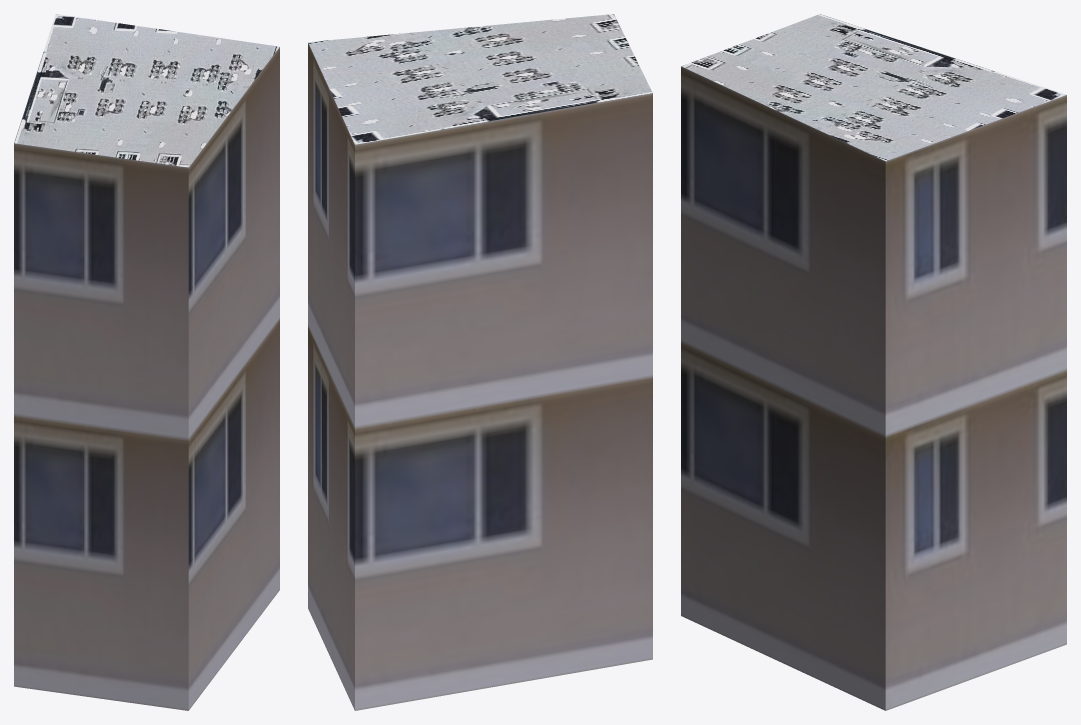
Rendered from ResTex__2899.fbx.
The picture shows the model from 3 angles, left to right: view 1: azimuth 30°, elevation 25°; view 2: azimuth 150°, elevation 25°; view 3: azimuth 270°, elevation 25°; orthographic projection. The views are drawn at different scales.
Visible parts, largest first — view 1: CityEngineMaterial_21_m, CityEngineMaterial_8_m; view 2: CityEngineMaterial_21_m, CityEngineMaterial_8_m; view 3: CityEngineMaterial_21_m, CityEngineMaterial_8_m.
Part boxes in pixels (x1,y1,x2,y2): CityEngineMaterial_21_m: [14, 47, 279, 710]; CityEngineMaterial_8_m: [14, 14, 279, 167]; CityEngineMaterial_21_m: [308, 43, 652, 710]; CityEngineMaterial_8_m: [308, 14, 652, 144]; CityEngineMaterial_21_m: [681, 66, 1066, 710]; CityEngineMaterial_8_m: [681, 14, 1066, 161].
Size of the model in its own units: 3.45 by 6 by 3.82.
2 materials, 2 textured.
